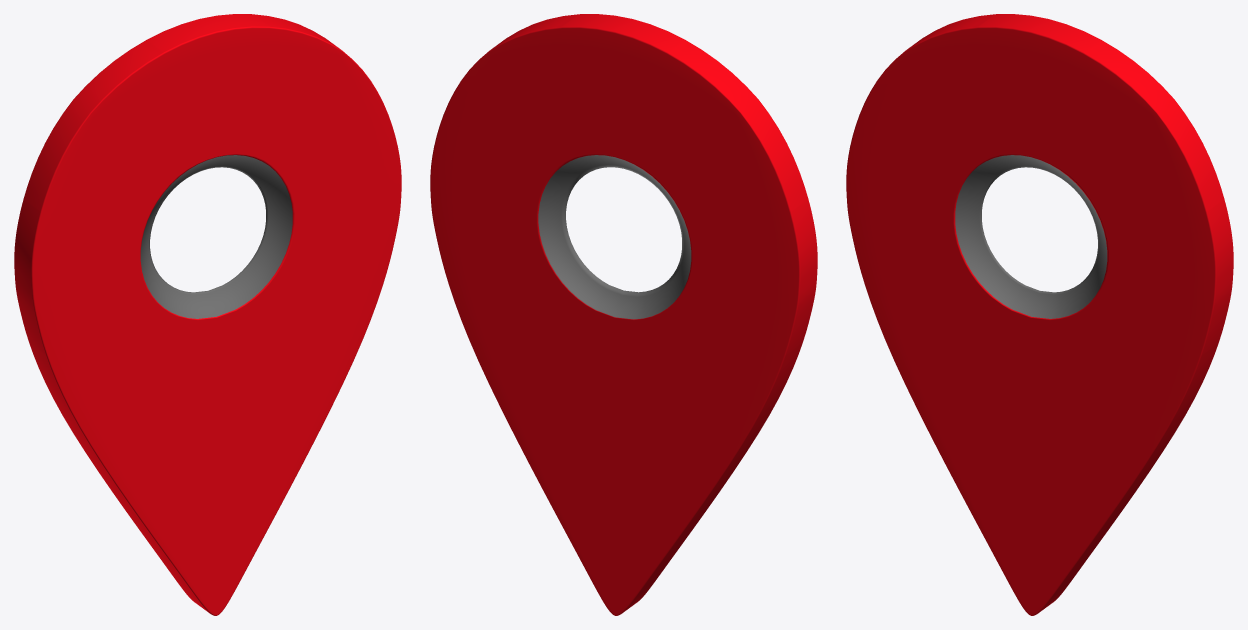
File: map_pointer.gltf
The picture shows the model from 3 angles, left to right: view 1: azimuth 30°, elevation 25°; view 2: azimuth 150°, elevation 25°; view 3: azimuth 330°, elevation 25°; orthographic projection.
Parts seen in each view (by area): view 1: Plane; view 2: Plane; view 3: Plane.
Part boxes in pixels (x1=…): Plane: x1=14, y1=14, x2=401, y2=615; Plane: x1=430, y1=14, x2=817, y2=615; Plane: x1=846, y1=14, x2=1233, y2=615.
Size of the model in its own units: 2.66 by 4.02 by 0.227.
